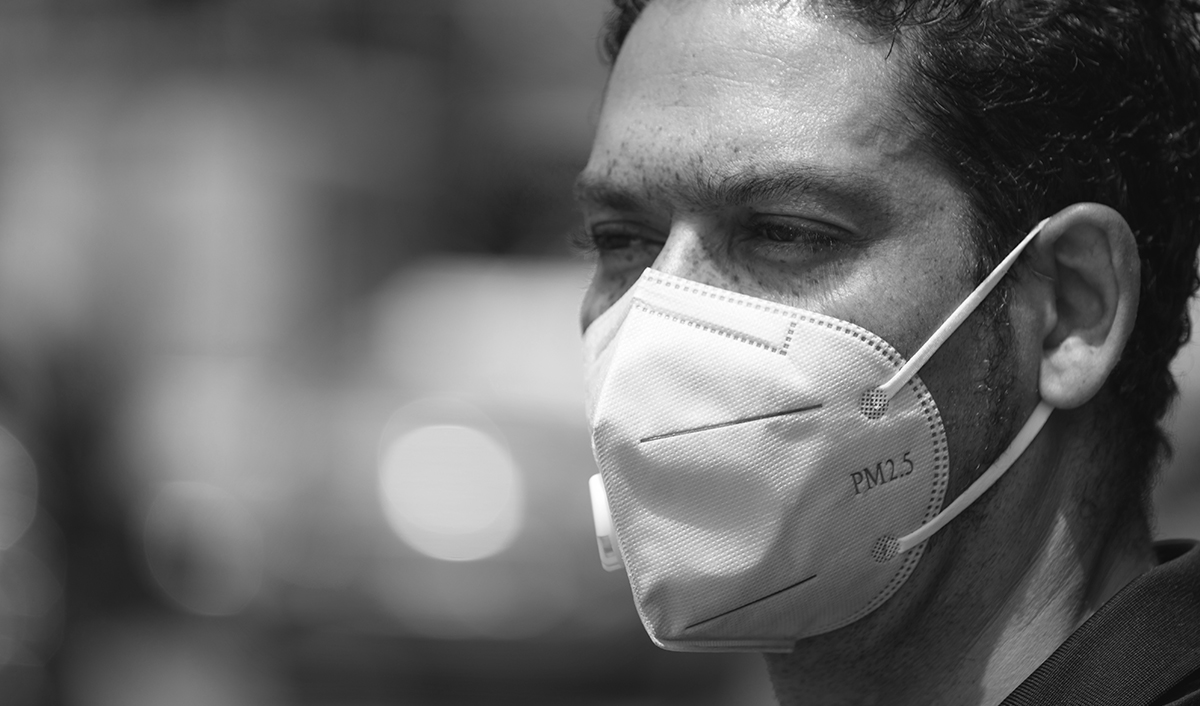n95: (559, 261, 962, 661)
